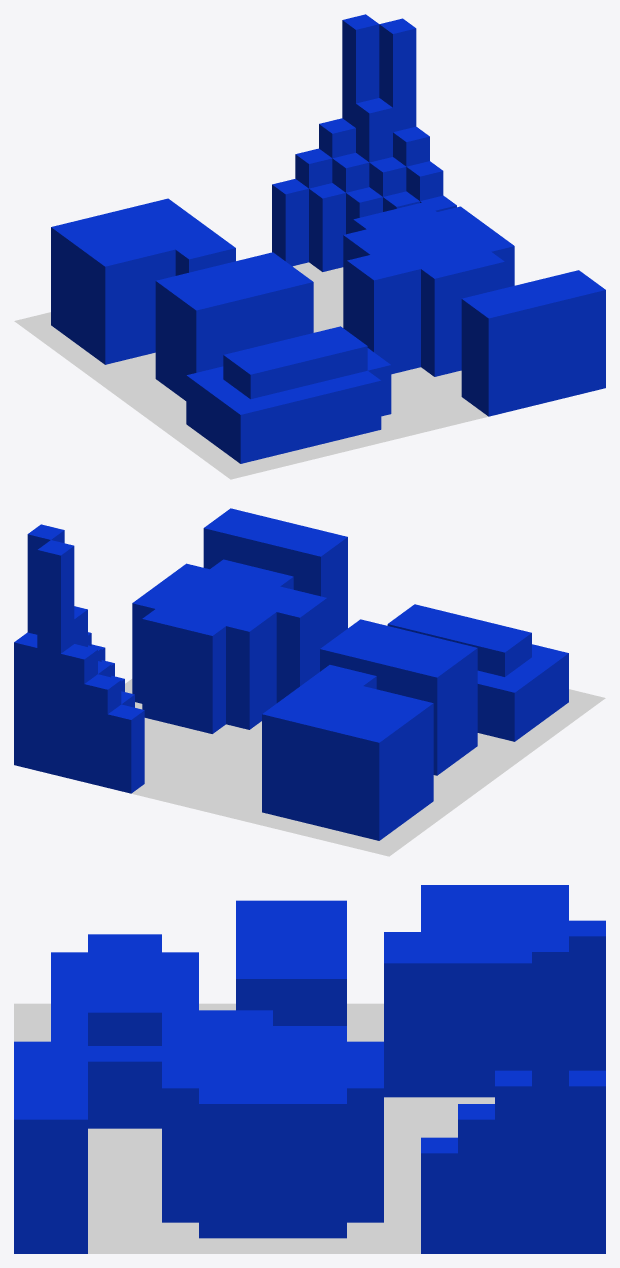
Rendered from Maze1.fbx.
3 views of the same model, one above another, from view 1: azimuth 30°, elevation 25°; view 2: azimuth 150°, elevation 25°; view 3: azimuth 270°, elevation 25° (orthographic). The views are drawn at different scales.
Visible parts, largest first — view 1: Maze1; view 2: Maze1; view 3: Maze1.
Part boxes in pixels (x1=…): Maze1: x1=14, y1=14, x2=605, y2=479; Maze1: x1=14, y1=508, x2=605, y2=856; Maze1: x1=14, y1=885, x2=605, y2=1253.
Size of the model in its own units: 1600 by 900 by 1600.
